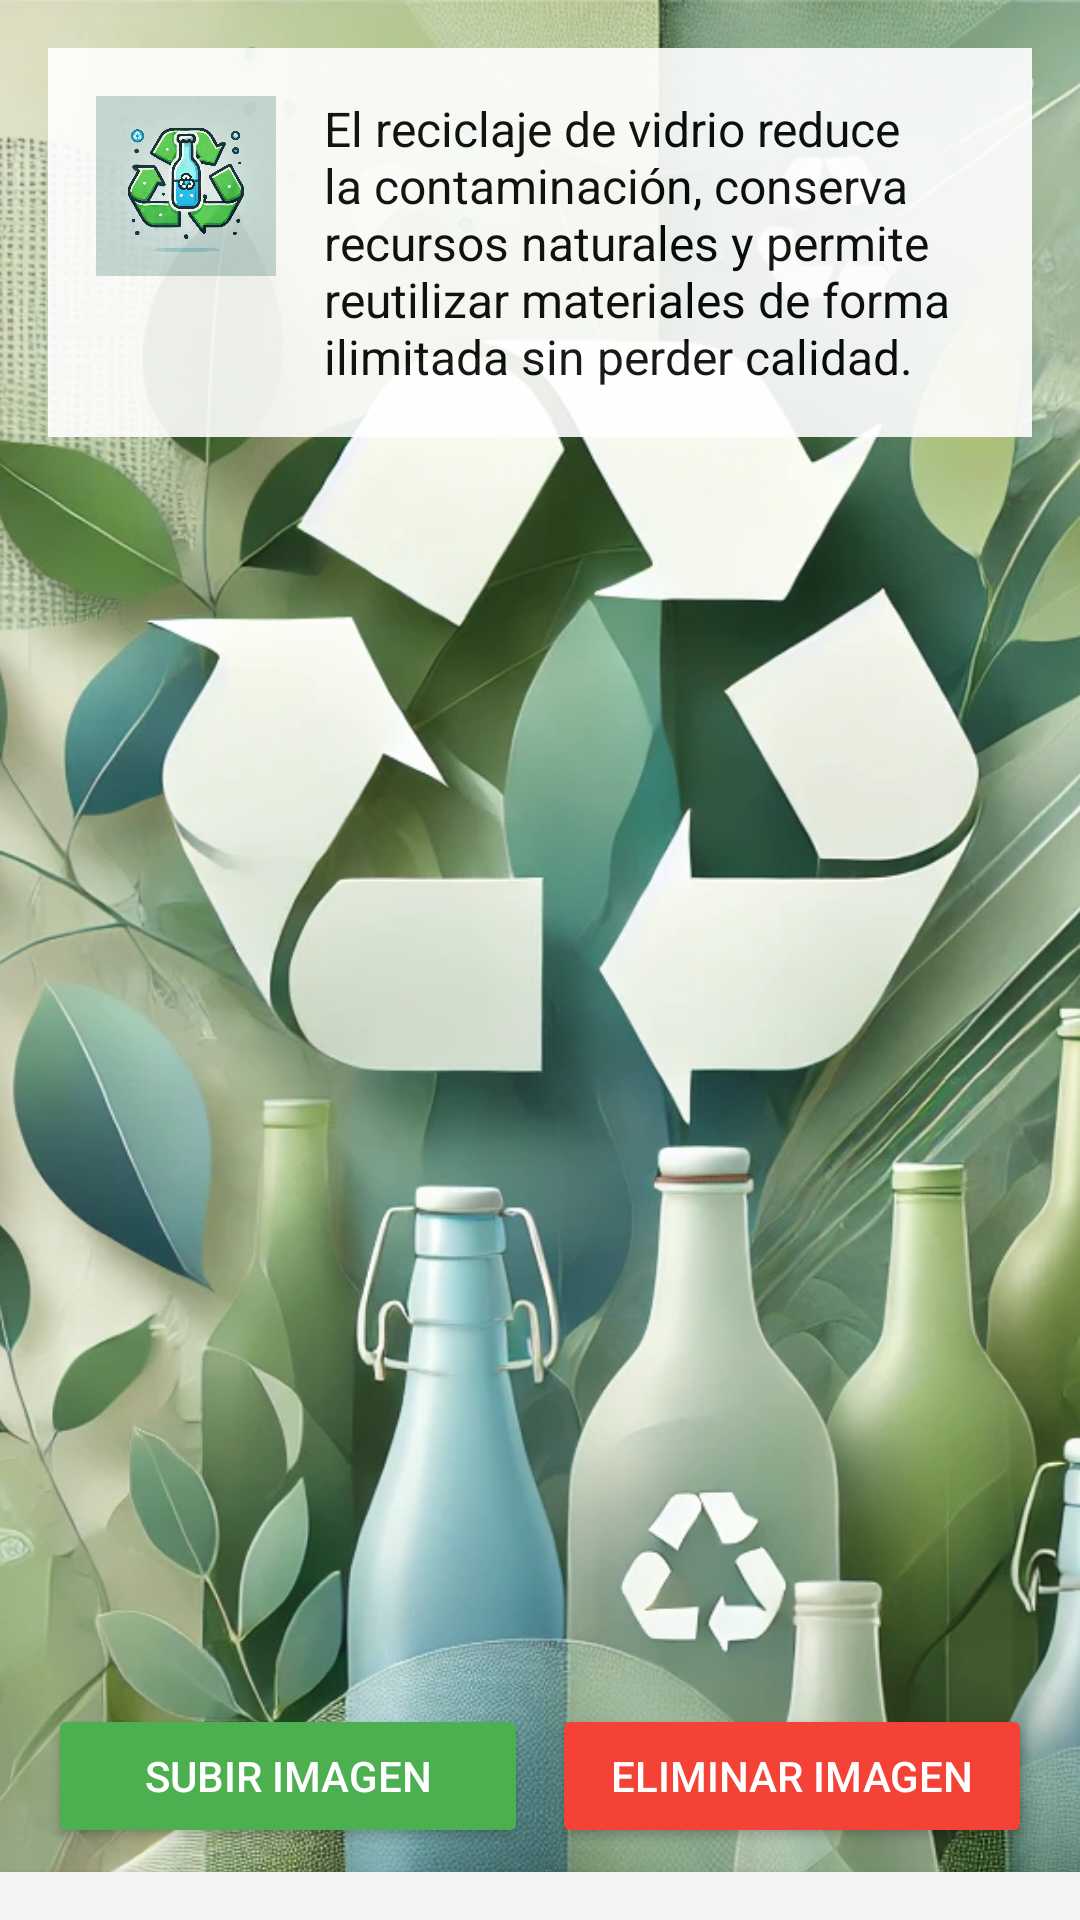

Screen size 1080px×1920px. Icon name, then its center in pixels as [x,y]:
Icono de vidrio reciclado: [186,186]
